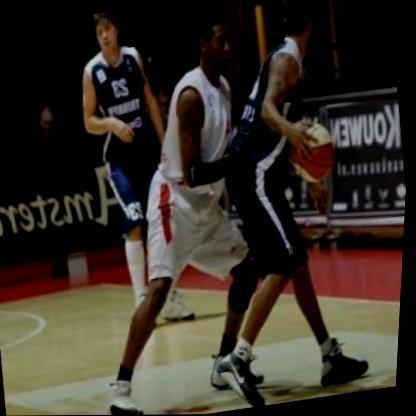basketball: (282, 115, 348, 189)
